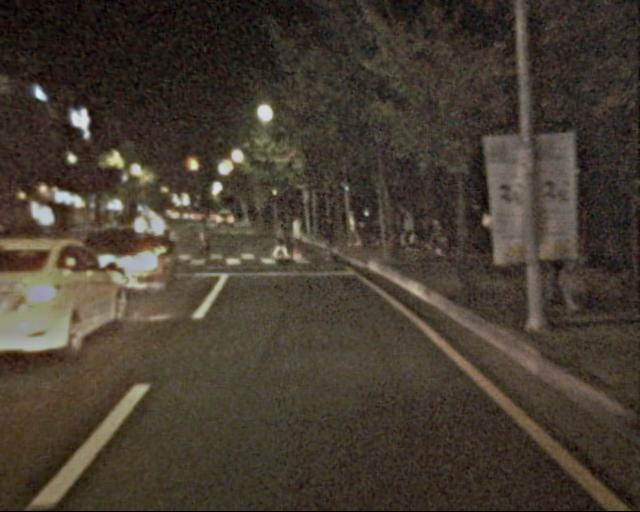person: (190, 213, 212, 266), (451, 204, 474, 254), (285, 210, 307, 261), (311, 214, 332, 266), (270, 215, 291, 265), (394, 205, 412, 250)
